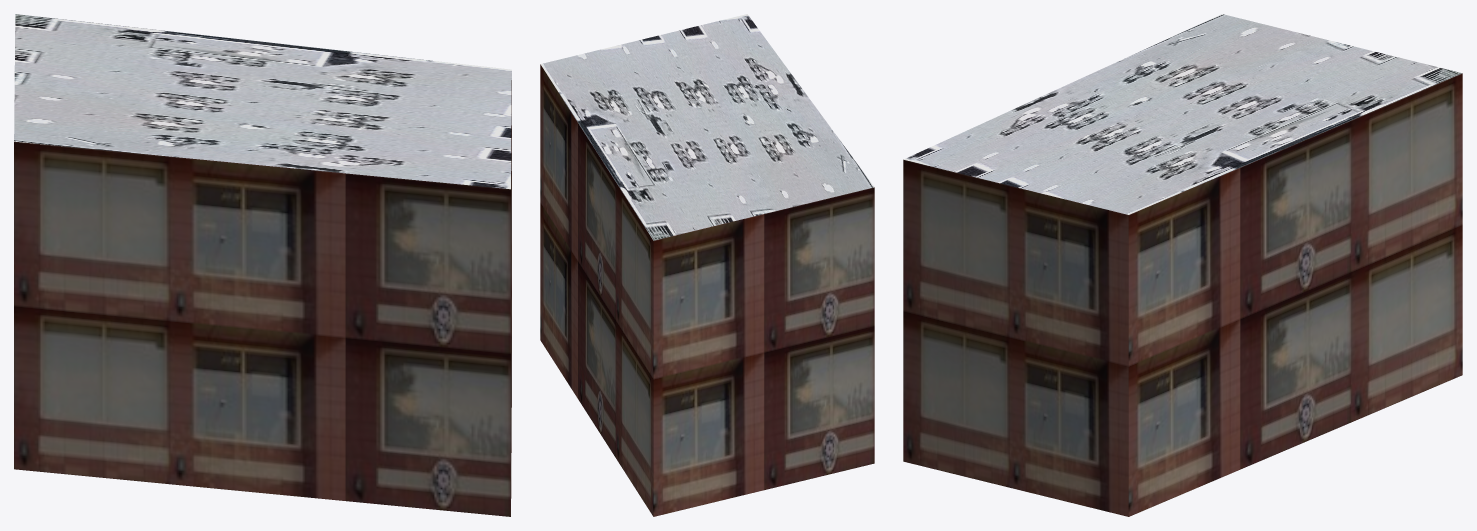
Rendered from ResTex__5167.fbx.
3 renders of one model, left to right at view 1: azimuth 30°, elevation 25°; view 2: azimuth 150°, elevation 25°; view 3: azimuth 270°, elevation 25°, orthographic. The views are drawn at different scales.
Visible parts, largest first — view 1: CityEngineMaterial_13_m, CityEngineMaterial_4_m; view 2: CityEngineMaterial_13_m, CityEngineMaterial_4_m; view 3: CityEngineMaterial_13_m, CityEngineMaterial_4_m.
Boxes of the visible parts, bbox=[...] form: CityEngineMaterial_13_m: bbox=[14, 80, 511, 516]; CityEngineMaterial_4_m: bbox=[14, 14, 511, 189]; CityEngineMaterial_13_m: bbox=[540, 64, 874, 516]; CityEngineMaterial_4_m: bbox=[540, 14, 873, 240]; CityEngineMaterial_13_m: bbox=[903, 73, 1462, 516]; CityEngineMaterial_4_m: bbox=[904, 14, 1461, 214].
Bounding box in the file's own units: 8.57 × 6 × 10.08.
2 materials, 2 textured.
